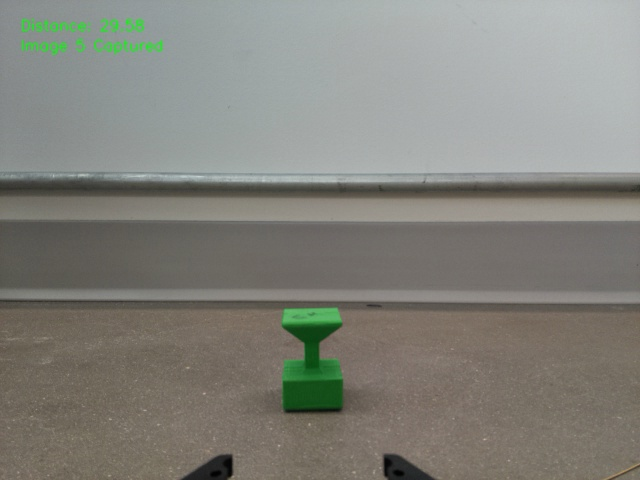block: (279, 306, 346, 412)
